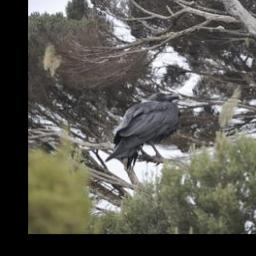Crow: (106, 91, 182, 172)
